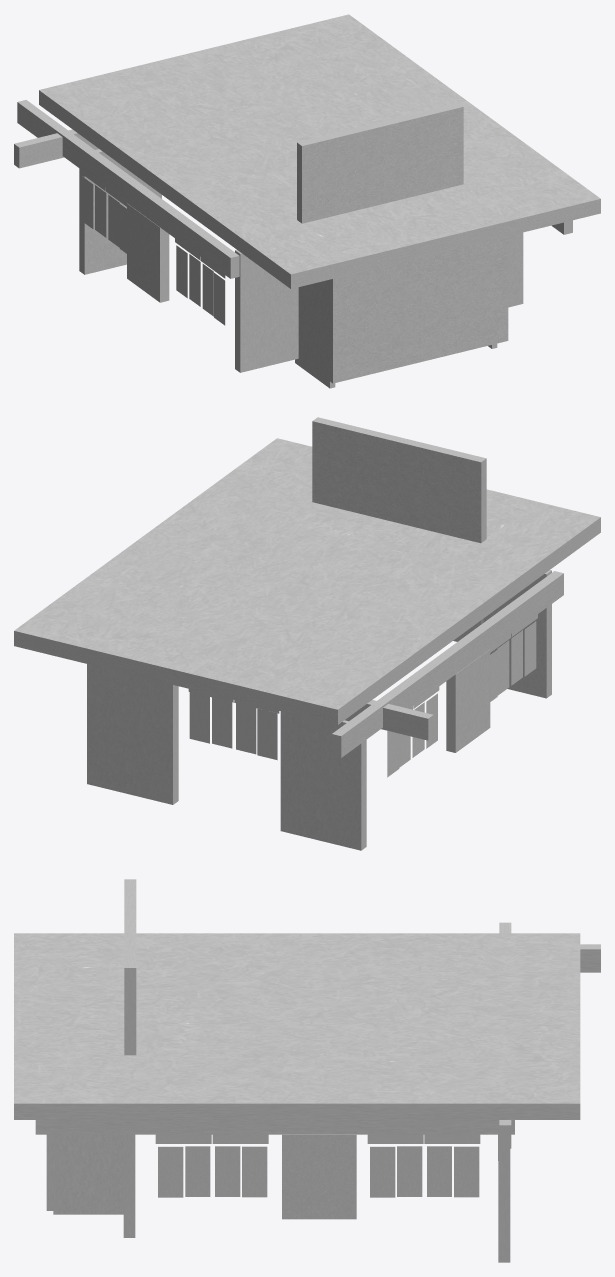
Rendered from doujou_wall.obj.
3 views of the same model, one above another, from view 1: azimuth 30°, elevation 25°; view 2: azimuth 150°, elevation 25°; view 3: azimuth 270°, elevation 25° (orthographic). The views are drawn at different scales.
Visible parts, largest first — view 1: 立方体.048; view 2: 立方体.048; view 3: 立方体.048.
Boxes of the visible parts, x1,y1,x2,y2 form: 立方体.048: (14,14,600,388); 立方体.048: (14,417,600,850); 立方体.048: (14,879,600,1262).
Size of the model in its own units: 676 by 416 by 828.
Materials: 1 (1 with a texture image).
